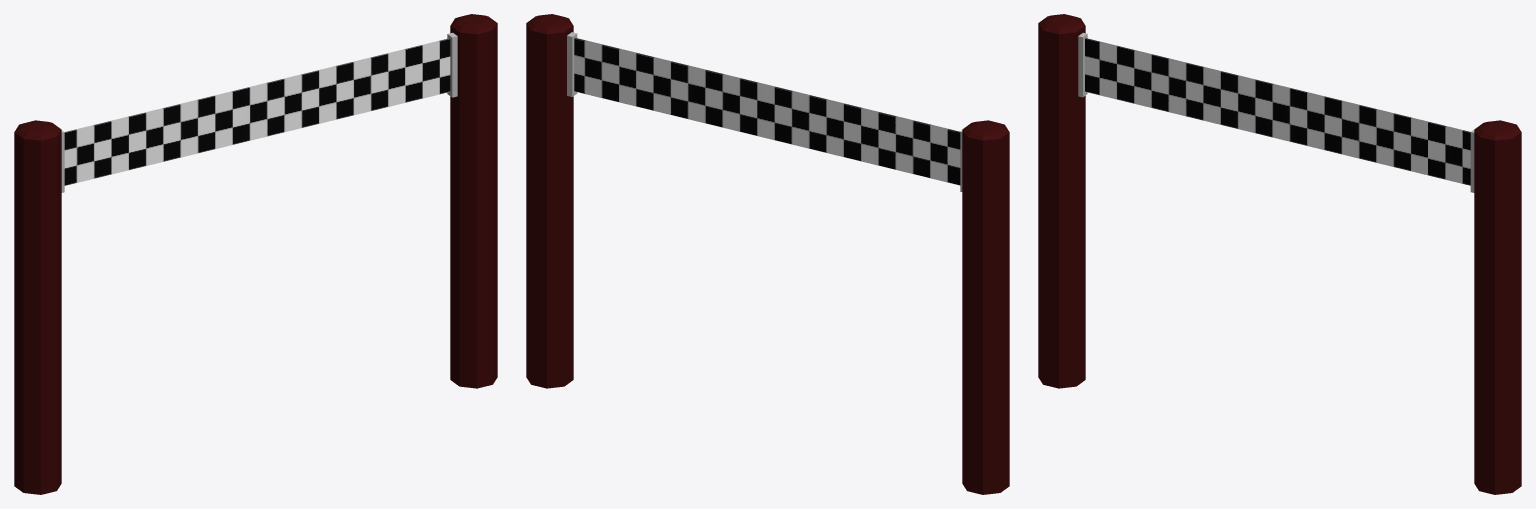
File: finish.fbx
3 views of the same model, side by side, from view 1: azimuth 30°, elevation 25°; view 2: azimuth 150°, elevation 25°; view 3: azimuth 330°, elevation 25° (orthographic).
Visible parts, largest first — view 1: pPlane1, pCylinder1, pCylinder2, pCube2; view 2: pPlane2, pCylinder1, pCylinder2, pCube2; view 3: pPlane1, pCylinder2, pCylinder1.
Part boxes in pixels (x1,y1,x2,y2): pPlane1: (64,39,450,185); pCylinder1: (14,120,61,494); pCylinder2: (450,14,497,388); pCube2: (447,32,457,97); pPlane2: (574,38,960,185); pCylinder1: (962,120,1009,494); pCylinder2: (526,14,573,388); pCube2: (567,32,577,96); pPlane1: (1085,38,1470,185); pCylinder2: (1474,120,1521,494); pCylinder1: (1038,14,1085,388).
Size of the model in its own units: 13.77 by 9.95 by 1.11.
3 materials, 1 textured.
